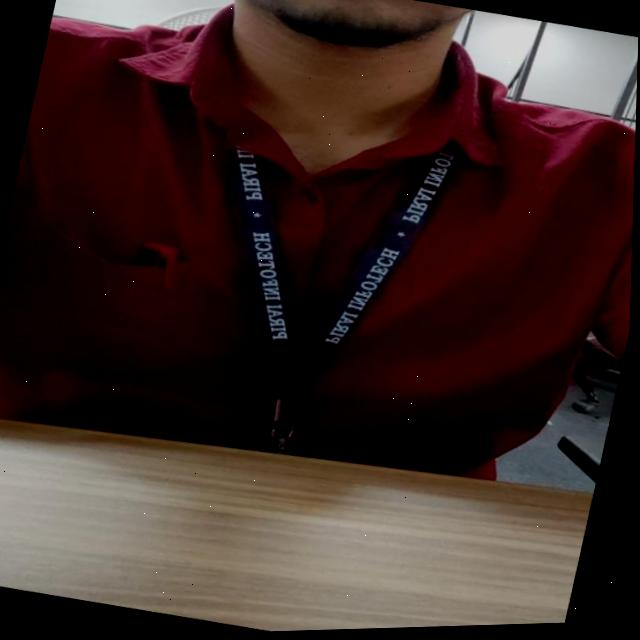id_card: (116, 60, 490, 461)
